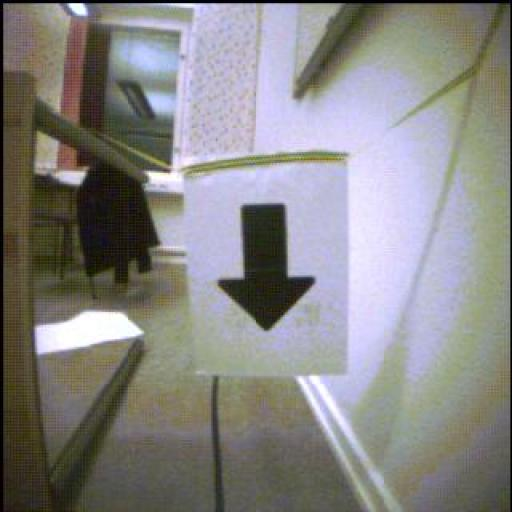Arrow: (219, 206, 316, 332)
